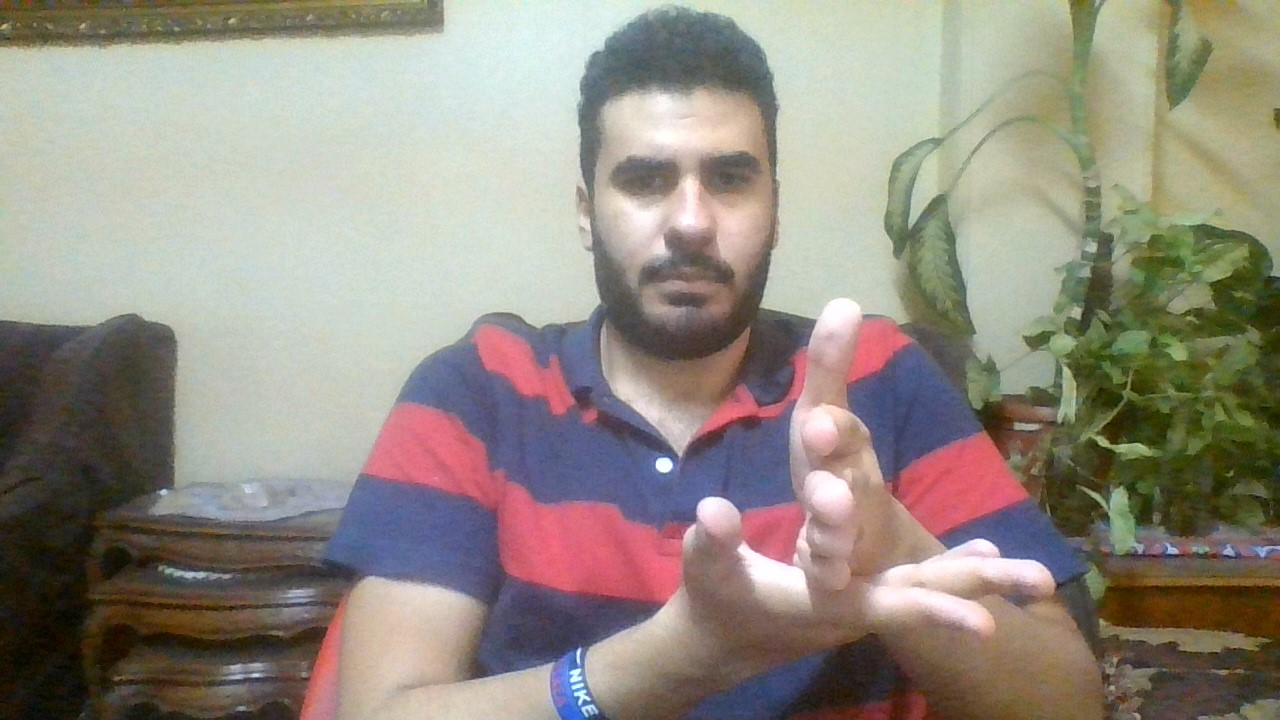stop: (693, 298, 1061, 646)
